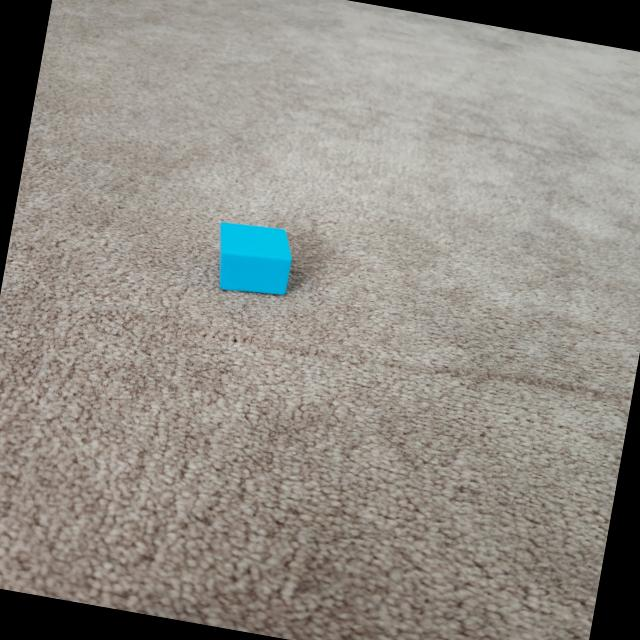bluecube: (206, 212, 305, 306)
